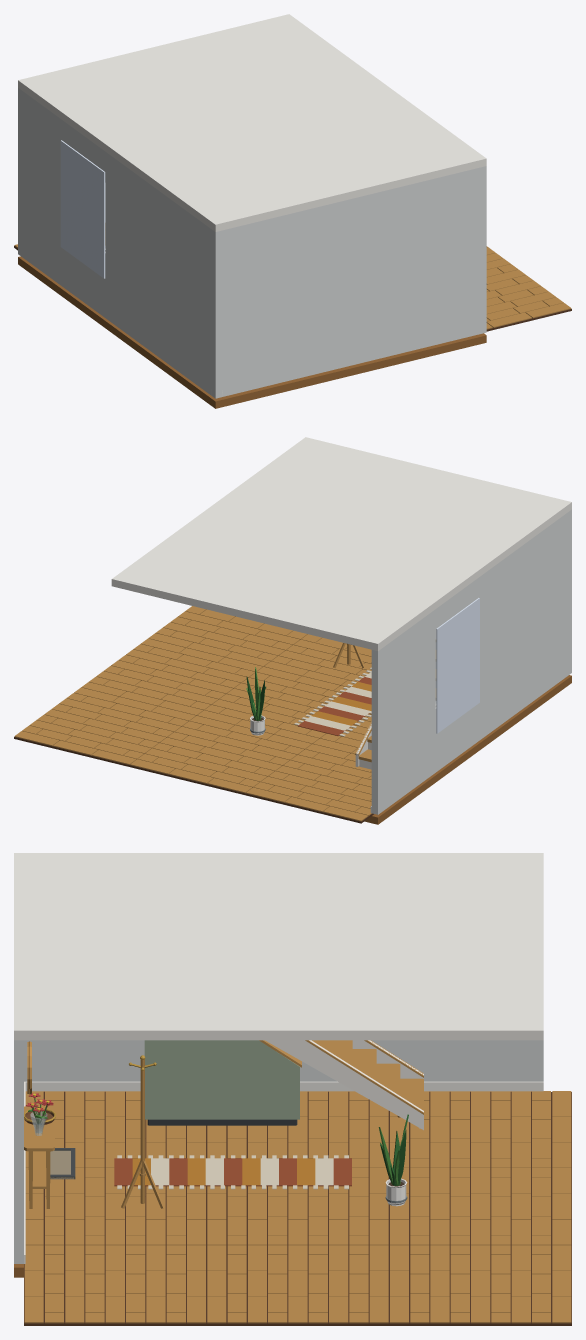
The model's file is SM_LPI_Room_Stairhall.fbx.
3 renders of one model, top to bottom at view 1: azimuth 30°, elevation 25°; view 2: azimuth 150°, elevation 25°; view 3: azimuth 270°, elevation 25°, orthographic. The views are drawn at different scales.
Parts seen in each view (by area): view 1: SM_LPI_Room_StairHall, SM_LPI_Room_StairHallGlass, SM_LPI_Floor_PlankOak_03.007; view 2: SM_LPI_Room_StairHall, SM_LPI_Floor_PlankOak_03.009, SM_LPI_Floor_PlankOak_03.006, SM_LPI_Floor_PlankOak_03.008, SM_LPI_Floor_PlankOak_03.003, SM_LPI_Floor_PlankOak_03.005, SM_LPI_Floor_PlankOak_03.007, SM_LPI_Room_StairHallGlass, SM_LPI_Floor_PlankOak_03.004, SM_LPI_Text_RugRunner_01.001, SM_LPI_Floor_PlankOak_03.002, SM_LPI_Plant_SnakePlant_01.001 (+1 smaller); view 3: SM_LPI_Room_StairHall, SM_LPI_Floor_PlankOak_03.008, SM_LPI_Floor_PlankOak_03.009, SM_LPI_Floor_PlankOak_03.007, SM_LPI_Floor_PlankOak_03.006, SM_LPI_Stair_Understairs_01.001, SM_LPI_Floor_PlankOak_03.003, SM_LPI_Floor_PlankOak_03.005, SM_LPI_Floor_PlankOak_03.004, SM_LPI_Floor_PlankOak_03.002, SM_LPI_Floor_PlankOak_03.001, SM_LPI_Text_RugRunner_01.001 (+5 smaller).
Boxes of the visible parts, left/top/right/bottom form: SM_LPI_Room_StairHall: left=18, top=14, right=486, bottom=408; SM_LPI_Room_StairHallGlass: left=60, top=140, right=105, bottom=278; SM_LPI_Floor_PlankOak_03.007: left=486, top=258, right=571, bottom=331; SM_LPI_Room_StairHall: left=111, top=437, right=571, bottom=824; SM_LPI_Floor_PlankOak_03.009: left=14, top=687, right=195, bottom=766; SM_LPI_Floor_PlankOak_03.006: left=129, top=716, right=311, bottom=795; SM_LPI_Floor_PlankOak_03.008: left=81, top=638, right=262, bottom=715; SM_LPI_Floor_PlankOak_03.003: left=245, top=744, right=373, bottom=823; SM_LPI_Floor_PlankOak_03.005: left=197, top=667, right=346, bottom=743; SM_LPI_Floor_PlankOak_03.007: left=148, top=606, right=307, bottom=666; SM_LPI_Room_StairHallGlass: left=435, top=598, right=479, bottom=733; SM_LPI_Floor_PlankOak_03.004: left=264, top=634, right=371, bottom=687; SM_LPI_Text_RugRunner_01.001: left=294, top=667, right=371, bottom=736; SM_LPI_Floor_PlankOak_03.002: left=313, top=713, right=371, bottom=754; SM_LPI_Plant_SnakePlant_01.001: left=246, top=667, right=266, bottom=735; SM_LPI_Room_StairHall: left=14, top=853, right=543, bottom=1277; SM_LPI_Floor_PlankOak_03.008: left=206, top=1245, right=389, bottom=1325; SM_LPI_Floor_PlankOak_03.009: left=389, top=1245, right=571, bottom=1325; SM_LPI_Floor_PlankOak_03.007: left=24, top=1245, right=206, bottom=1325; SM_LPI_Floor_PlankOak_03.006: left=389, top=1168, right=571, bottom=1246; SM_LPI_Stair_Understairs_01.001: left=144, top=1040, right=301, bottom=1125; SM_LPI_Floor_PlankOak_03.003: left=389, top=1091, right=571, bottom=1168; SM_LPI_Floor_PlankOak_03.005: left=206, top=1168, right=389, bottom=1246; SM_LPI_Floor_PlankOak_03.004: left=25, top=1168, right=206, bottom=1246; SM_LPI_Floor_PlankOak_03.002: left=206, top=1091, right=389, bottom=1168; SM_LPI_Floor_PlankOak_03.001: left=25, top=1091, right=206, bottom=1168; SM_LPI_Text_RugRunner_01.001: left=114, top=1155, right=351, bottom=1189.
Size of the model in its own units: 6.26 by 2.98 by 6.11.
